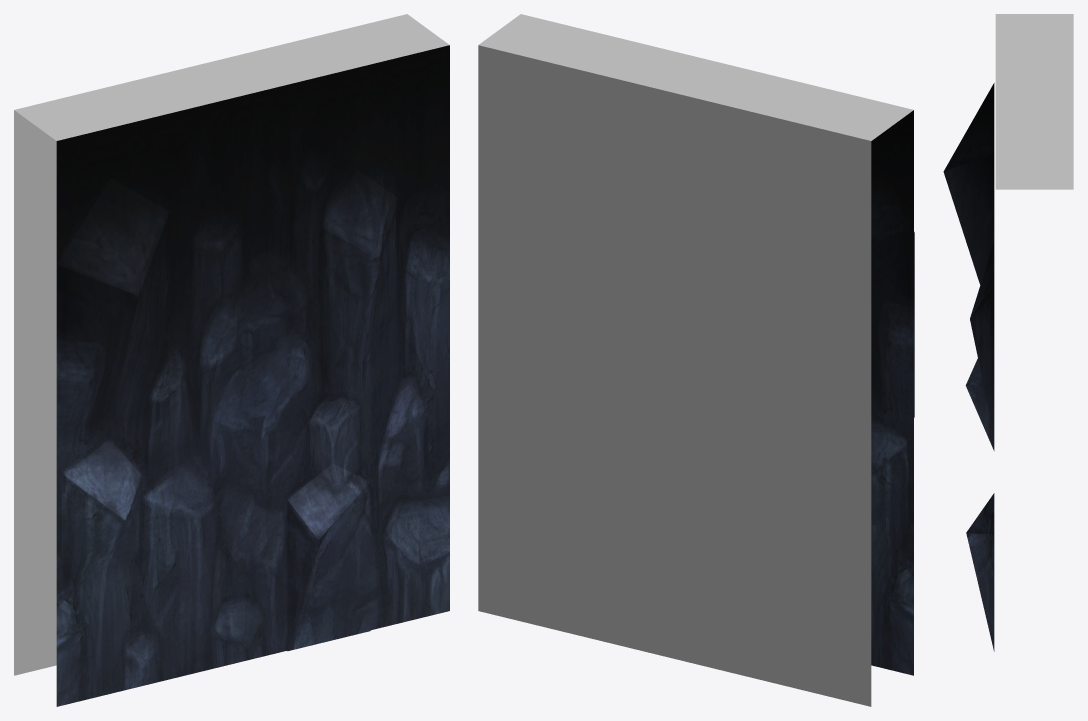
Rendered from mine_fade_straight_01.fbx.
The picture shows the model from 3 angles, left to right: view 1: azimuth 30°, elevation 25°; view 2: azimuth 150°, elevation 25°; view 3: azimuth 270°, elevation 25°; orthographic projection. The views are drawn at different scales.
Visible parts, largest first — view 1: mine_fade_straight_01-0; view 2: mine_fade_straight_01-0; view 3: mine_fade_straight_01-0.
Part boxes in pixels (bbox=[...]): mine_fade_straight_01-0: bbox=[14, 14, 449, 706]; mine_fade_straight_01-0: bbox=[478, 14, 914, 706]; mine_fade_straight_01-0: bbox=[943, 14, 1073, 651].
Bounding box in the file's own units: 4 × 5.5 × 1.25.
